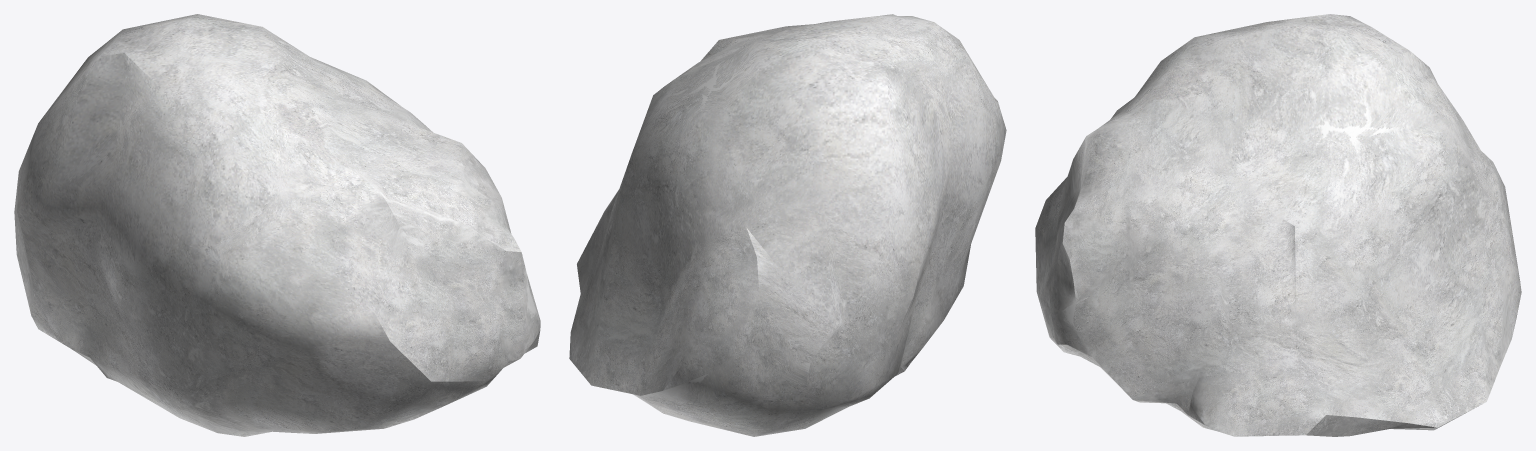
File: rock_00B_lp.fbx
3 views of the same model, side by side, from view 1: azimuth 30°, elevation 25°; view 2: azimuth 150°, elevation 25°; view 3: azimuth 270°, elevation 25° (orthographic). The views are drawn at different scales.
Parts seen in each view (by area): view 1: rock_00B_lp; view 2: rock_00B_lp; view 3: rock_00B_lp.
Part boxes in pixels (x1,y1,x2,y2): rock_00B_lp: (14,14,540,436); rock_00B_lp: (569,14,1006,436); rock_00B_lp: (1035,14,1521,436).
Bounding box in the file's own units: 237 × 209 × 266.
